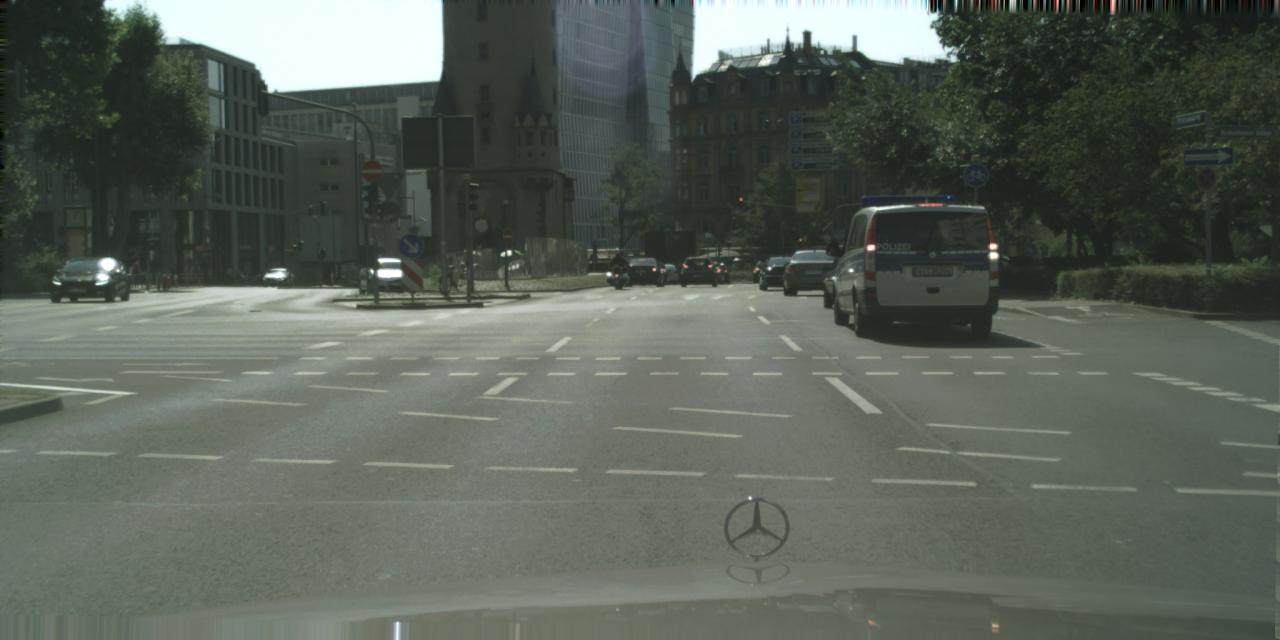ped: (612, 248, 624, 280), (132, 262, 141, 286), (226, 265, 233, 285), (260, 268, 266, 284)
